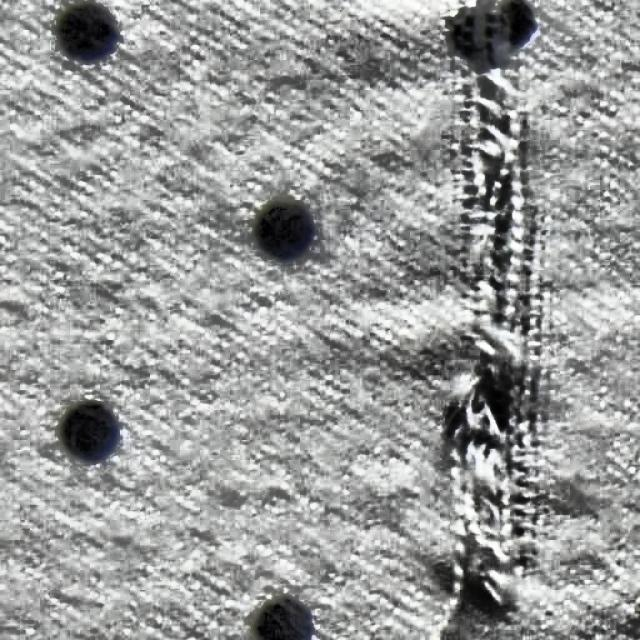Stitch: (428, 1, 550, 639)
